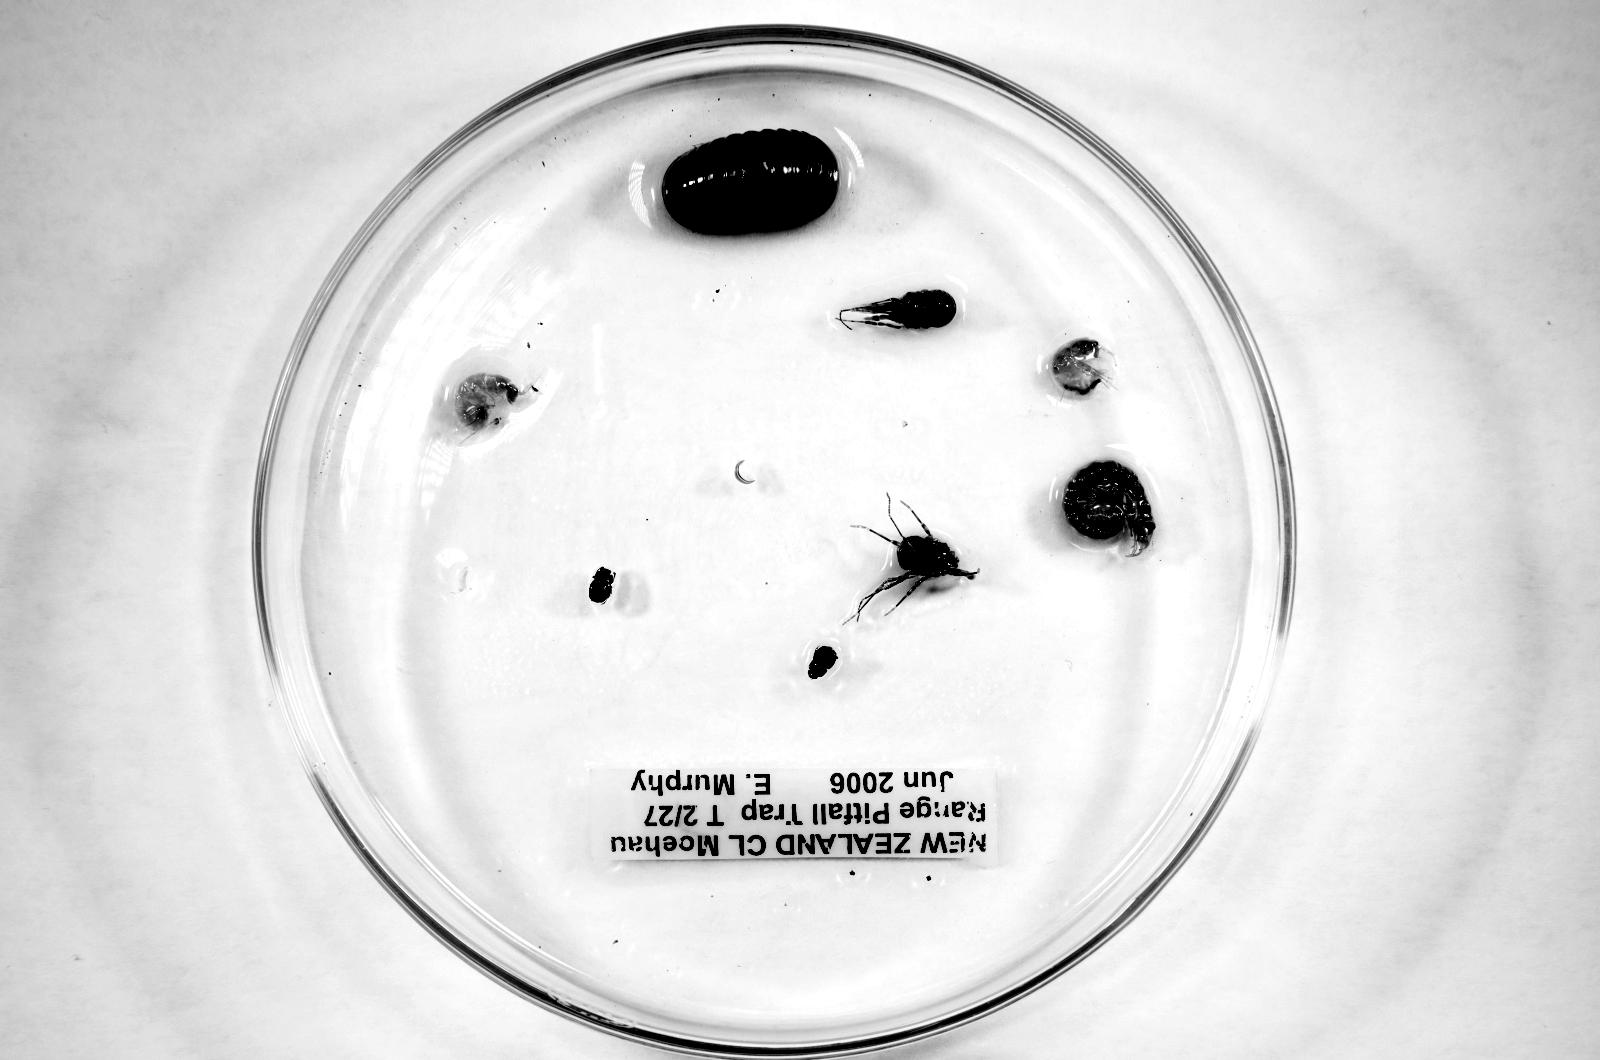amphipoda: (455, 374, 522, 432), (1049, 337, 1106, 395)
coleoptera: (808, 646, 837, 679), (589, 567, 615, 603)
diplopoda: (1062, 461, 1155, 557)
isopoda: (663, 129, 838, 231)
opiliones: (843, 500, 979, 625), (838, 290, 956, 329)
